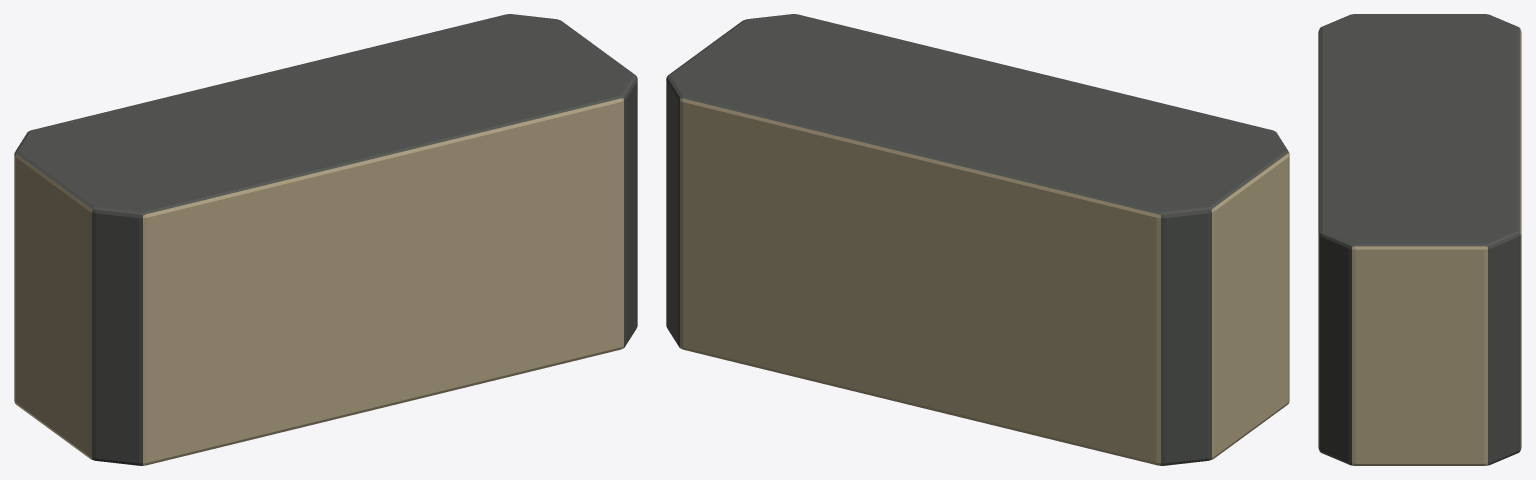
Rendered from funny_wall_in_electrical.fbx.
3 renders of one model, left to right at view 1: azimuth 30°, elevation 25°; view 2: azimuth 150°, elevation 25°; view 3: azimuth 270°, elevation 25°, orthographic. The views are drawn at different scales.
Parts seen in each view (by area): view 1: ElectricalWall; view 2: ElectricalWall; view 3: ElectricalWall.
Part boxes in pixels (x1,y1,x2,y2): ElectricalWall: [14, 14, 637, 465]; ElectricalWall: [666, 14, 1289, 465]; ElectricalWall: [1318, 14, 1521, 465].
Bounding box in the file's own units: 677 × 300 × 249.
